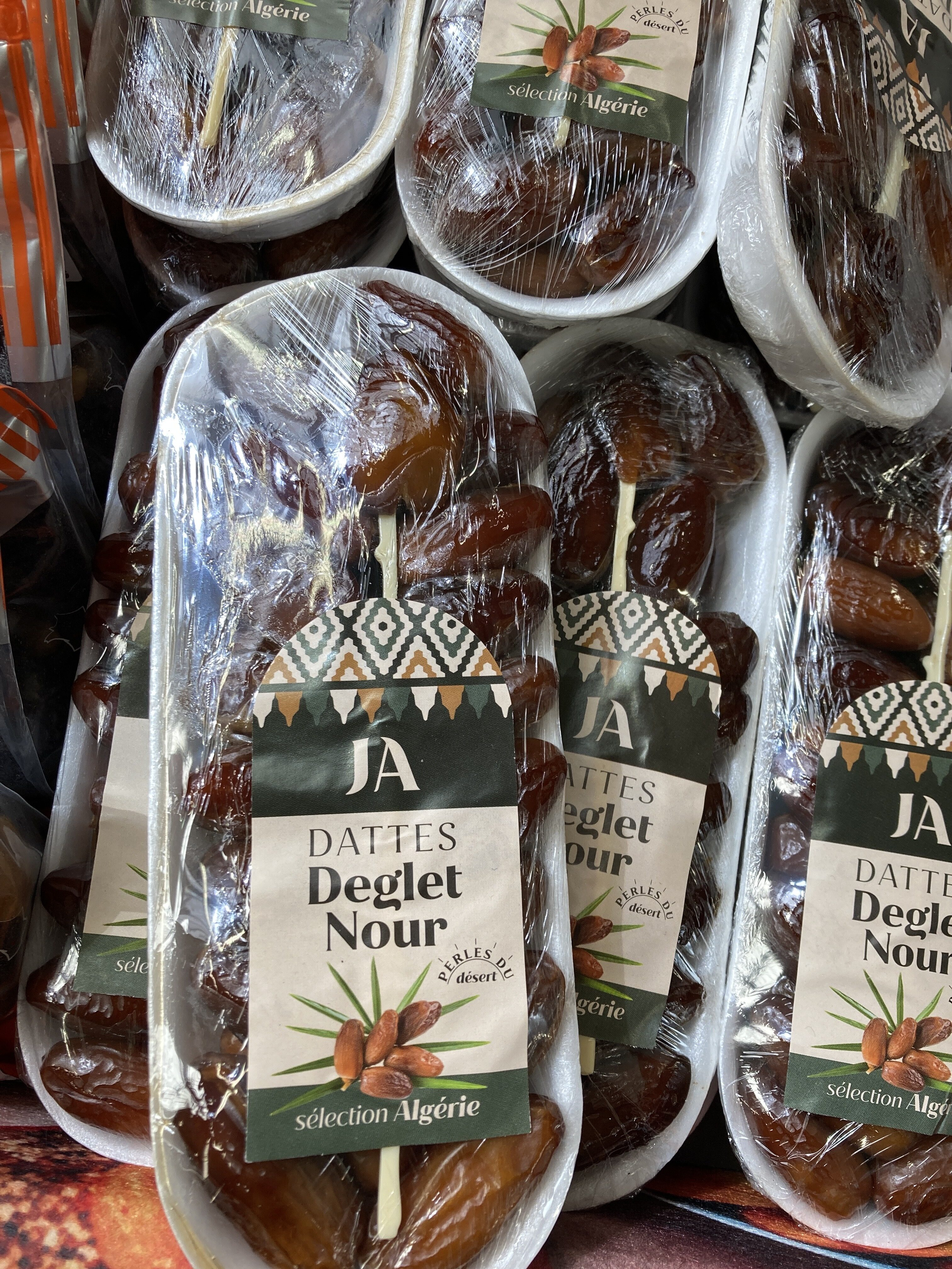Dattes Deglet Nour, Maitre Prunille: (48, 63, 904, 1206)
